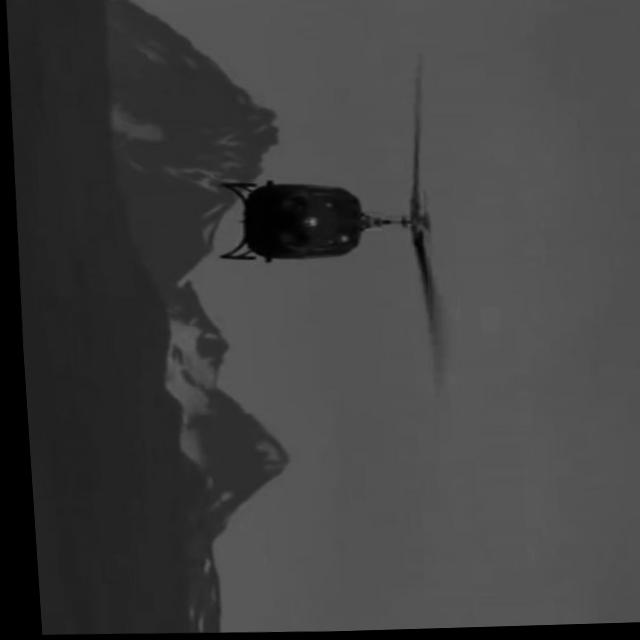helikopter: (179, 115, 421, 323)
